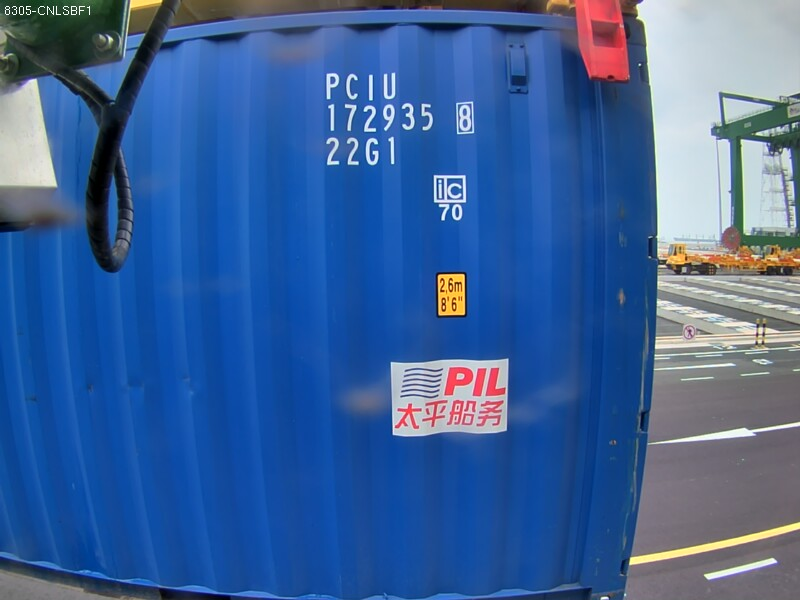container_no_door: (195, 4, 562, 593)
